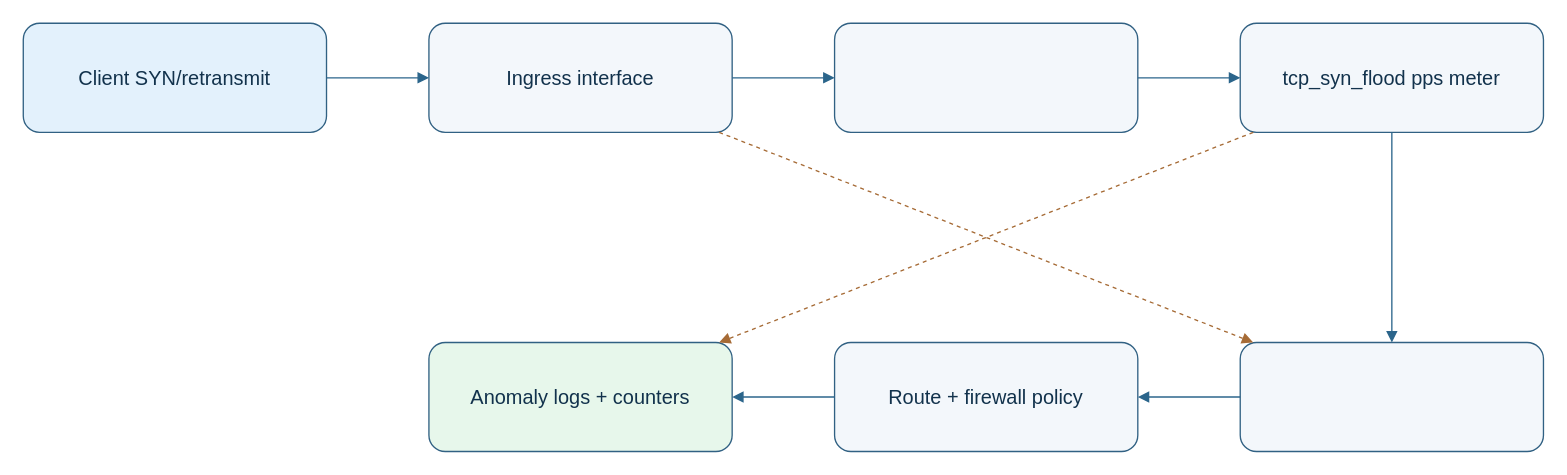
Some shapes in this 1567 by 475 pixel diagram are drawn without their labels. The shapes that lost their labels are listed below. From the top down, each one's box as (x1, y1, x2, y2) in pixels, then its label:
(833, 22, 1138, 132): DoS policy match
(1239, 341, 1543, 452): Block / pass decision
